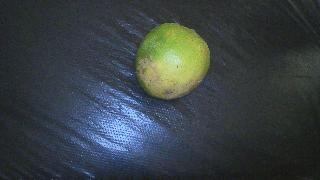DESECHO: (135, 23, 210, 99)
